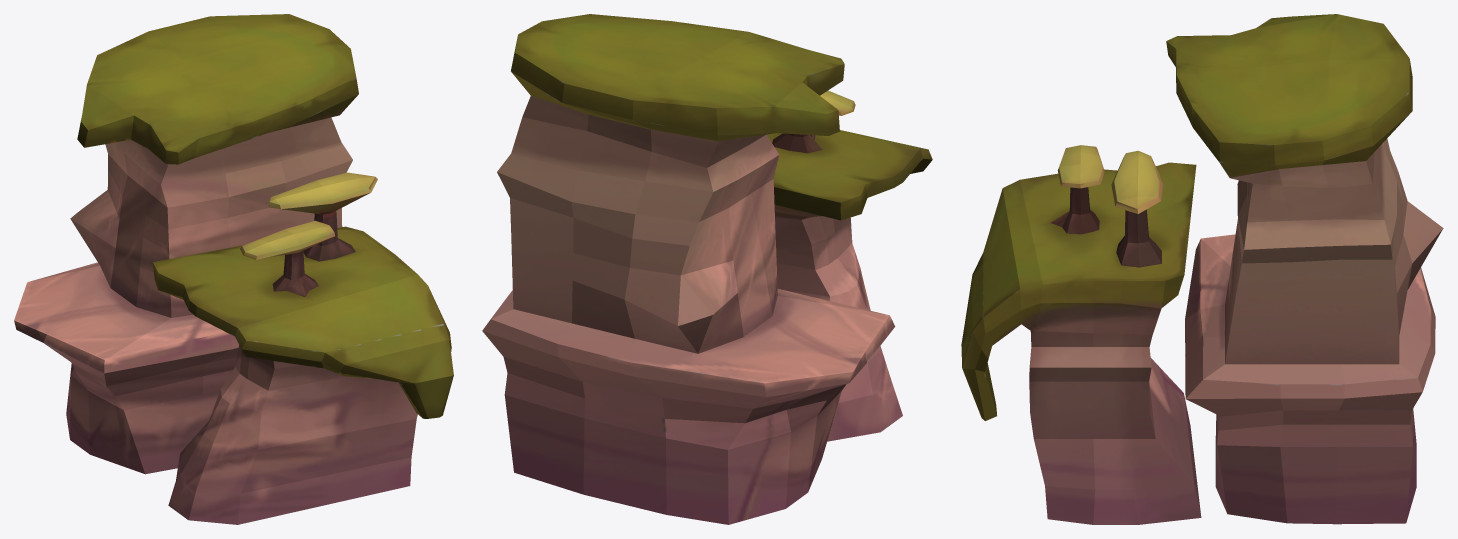
Rendered from Rock_1.fbx.
3 renders of one model, left to right at view 1: azimuth 30°, elevation 25°; view 2: azimuth 150°, elevation 25°; view 3: azimuth 270°, elevation 25°, orthographic. The views are drawn at different scales.
Parts seen in each view (by area): view 1: Rock_1; view 2: Rock_1; view 3: Rock_1.
Boxes of the visible parts, x1=… form: Rock_1: x1=14, y1=14, x2=453, y2=524; Rock_1: x1=482, y1=14, x2=932, y2=524; Rock_1: x1=961, y1=14, x2=1443, y2=524.
Bounding box in the file's own units: 6.24 × 6.94 × 7.47.
